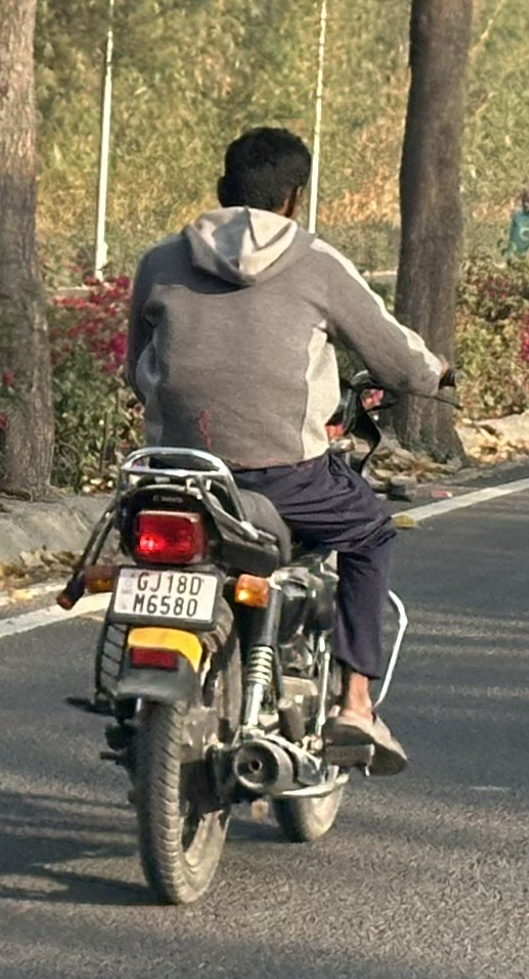BikeWithRider: (43, 112, 471, 916)
NoHelmet: (199, 115, 327, 233)
